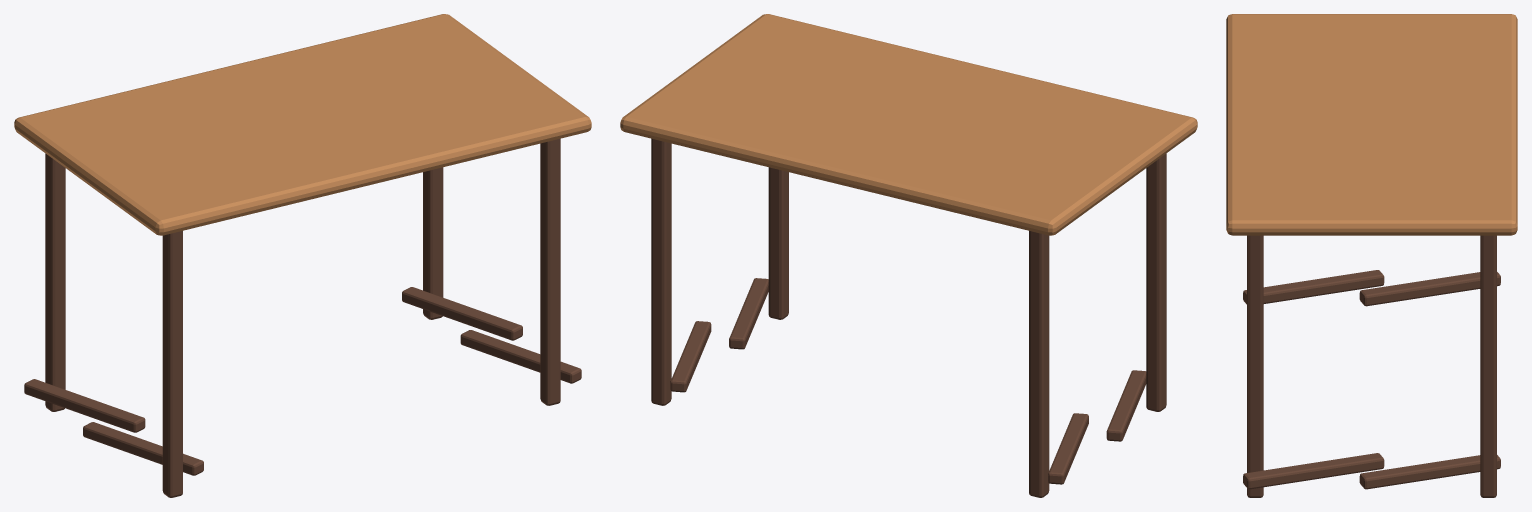
Rendered from folding_table.glb.
3 views of the same model, side by side, from view 1: azimuth 30°, elevation 25°; view 2: azimuth 150°, elevation 25°; view 3: azimuth 270°, elevation 25° (orthographic).
Parts seen in each view (by area): view 1: folding_table; view 2: folding_table; view 3: folding_table.
Boxes of the visible parts, left/top/right/bottom form: folding_table: left=14, top=14, right=591, bottom=497; folding_table: left=620, top=14, right=1197, bottom=497; folding_table: left=1226, top=14, right=1517, bottom=497.
Size of the model in its own units: 1.2 by 0.76 by 0.7.
